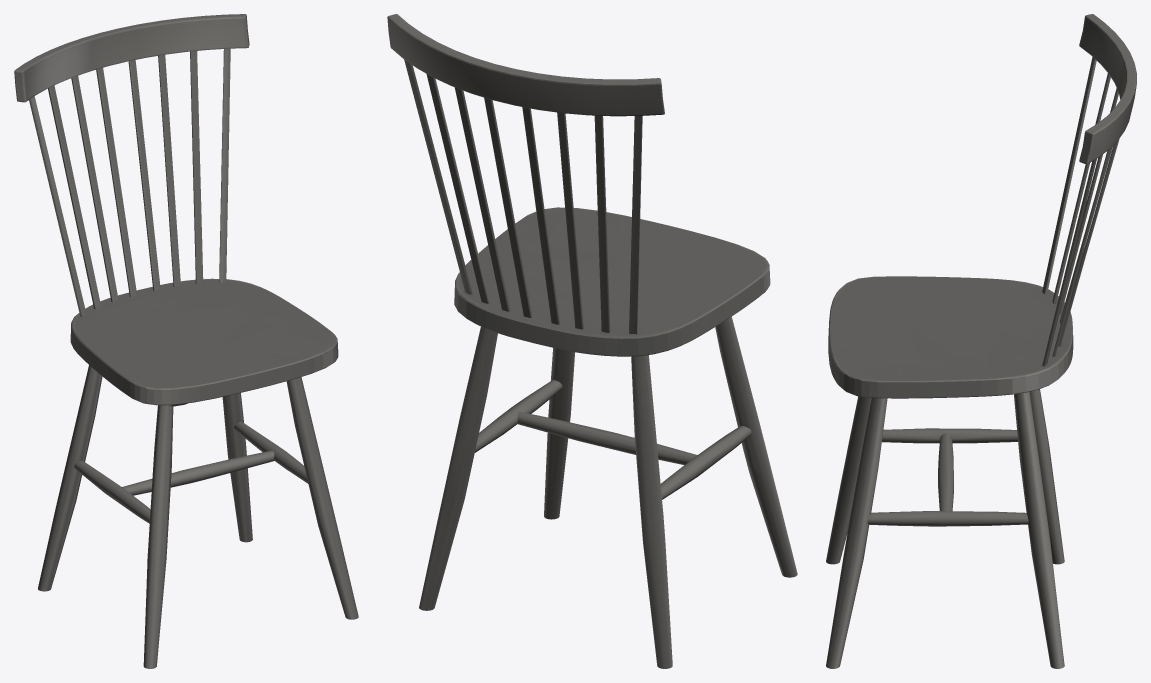
The model's file is raw_model.obj.
The picture shows the model from 3 angles, left to right: view 1: azimuth 30°, elevation 25°; view 2: azimuth 150°, elevation 25°; view 3: azimuth 270°, elevation 25°; orthographic projection. The views are drawn at different scales.
Visible parts, largest first — view 1: solid_001; view 2: solid_001; view 3: solid_001.
Boxes of the visible parts, x1,y1,x2,y2 form: solid_001: (14,14,358,668); solid_001: (387,14,797,668); solid_001: (826,14,1136,668).
Bounding box in the file's own units: 0.4366 × 0.9157 × 0.4767.
1 material, 1 textured.
